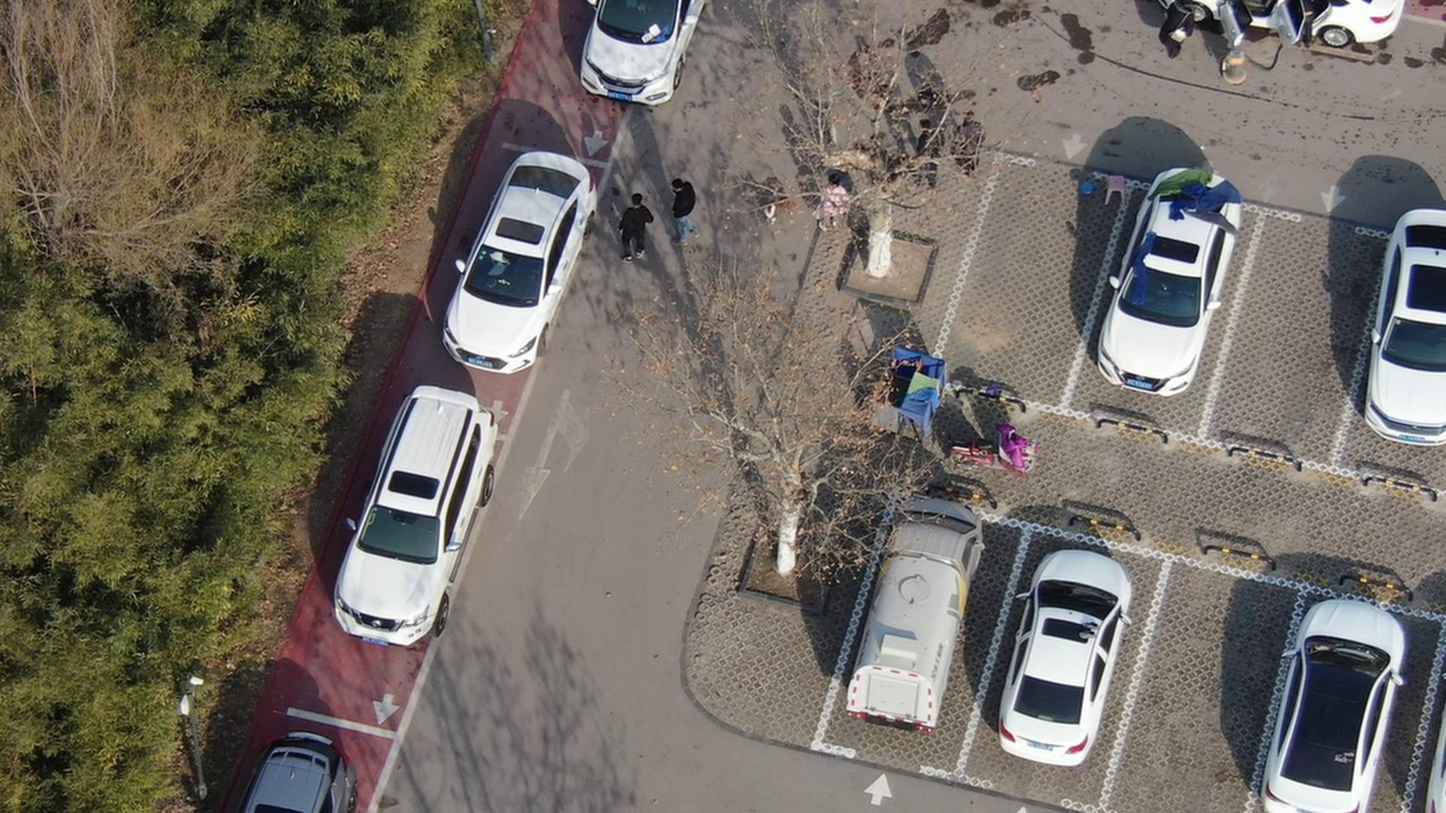human: (621, 181, 663, 265), (961, 101, 998, 178), (672, 172, 707, 251), (920, 110, 953, 191)
